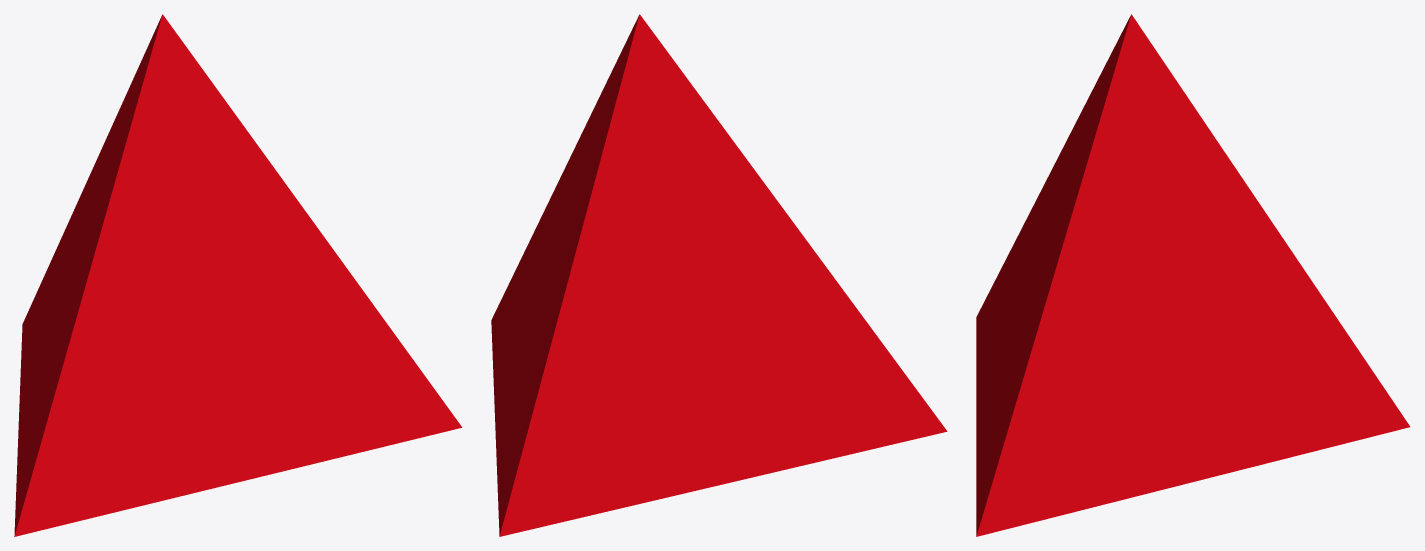
The model's file is komono15.fbx.
3 views of the same model, side by side, from view 1: azimuth 30°, elevation 25°; view 2: azimuth 150°, elevation 25°; view 3: azimuth 270°, elevation 25° (orthographic).
Parts seen in each view (by area): view 1: Cube.012; view 2: Cube.012; view 3: Cube.012.
Part boxes in pixels (x1,y1,x2,y2): Cube.012: (14, 14, 462, 536); Cube.012: (491, 14, 947, 536); Cube.012: (976, 14, 1410, 536).
Size of the model in its own units: 76.69 by 67.31 by 64.03.
